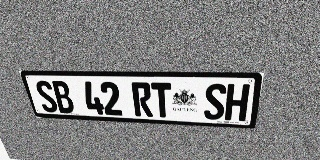2: (99, 82, 123, 116)
4: (81, 81, 105, 115)
B: (50, 81, 76, 113)
H: (224, 84, 250, 121)
R: (131, 82, 153, 117)
S: (33, 80, 59, 113), (204, 83, 227, 120)
T: (151, 83, 172, 118)
